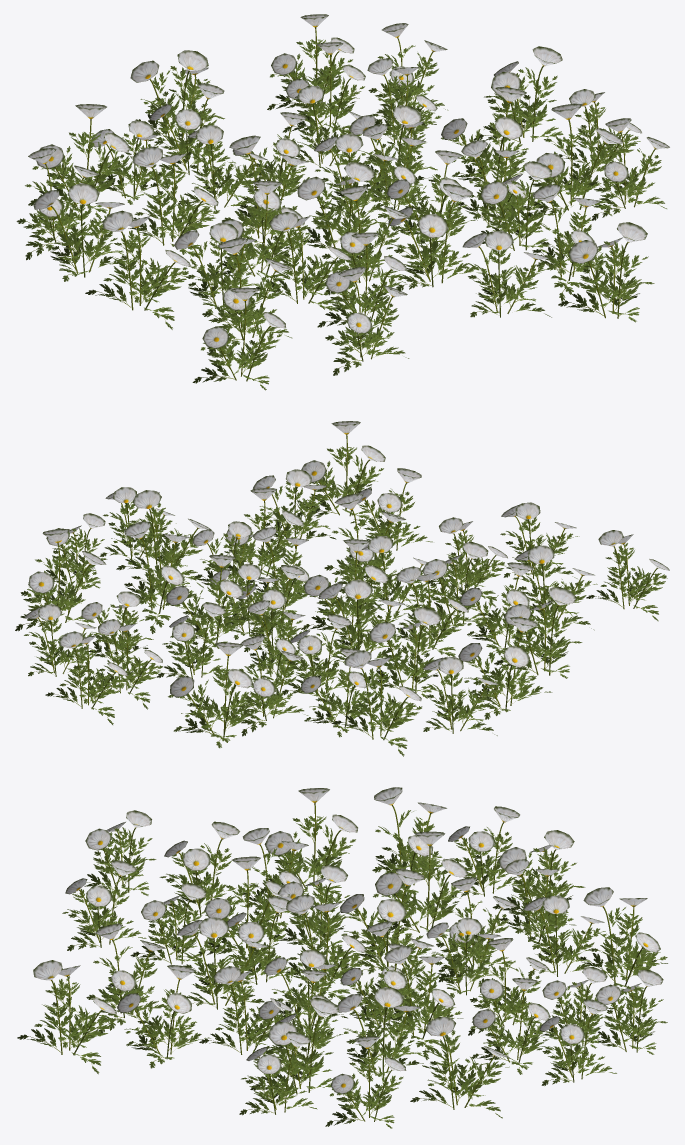
Rendered from daisy.fbx.
The picture shows the model from 3 angles, top to bottom: view 1: azimuth 30°, elevation 25°; view 2: azimuth 150°, elevation 25°; view 3: azimuth 270°, elevation 25°; orthographic projection. The views are drawn at different scales.
Parts seen in each view (by area): view 1: Tree_2, Tree_1, Tree_0; view 2: Tree_2, Tree_1, Tree_0; view 3: Tree_2, Tree_1, Tree_0.
Boxes of the visible parts, x1,y1,x2,y2 form: Tree_2: (16,39,666,390); Tree_1: (28,14,669,348); Tree_0: (45,27,655,381); Tree_2: (15,446,667,756); Tree_1: (24,421,669,701); Tree_0: (37,434,657,740); Tree_2: (17,810,667,1128); Tree_1: (33,787,663,1094); Tree_0: (51,802,646,1121).
Bounding box in the file's own units: 418 × 71.85 × 431.
3 materials, 3 textured.
